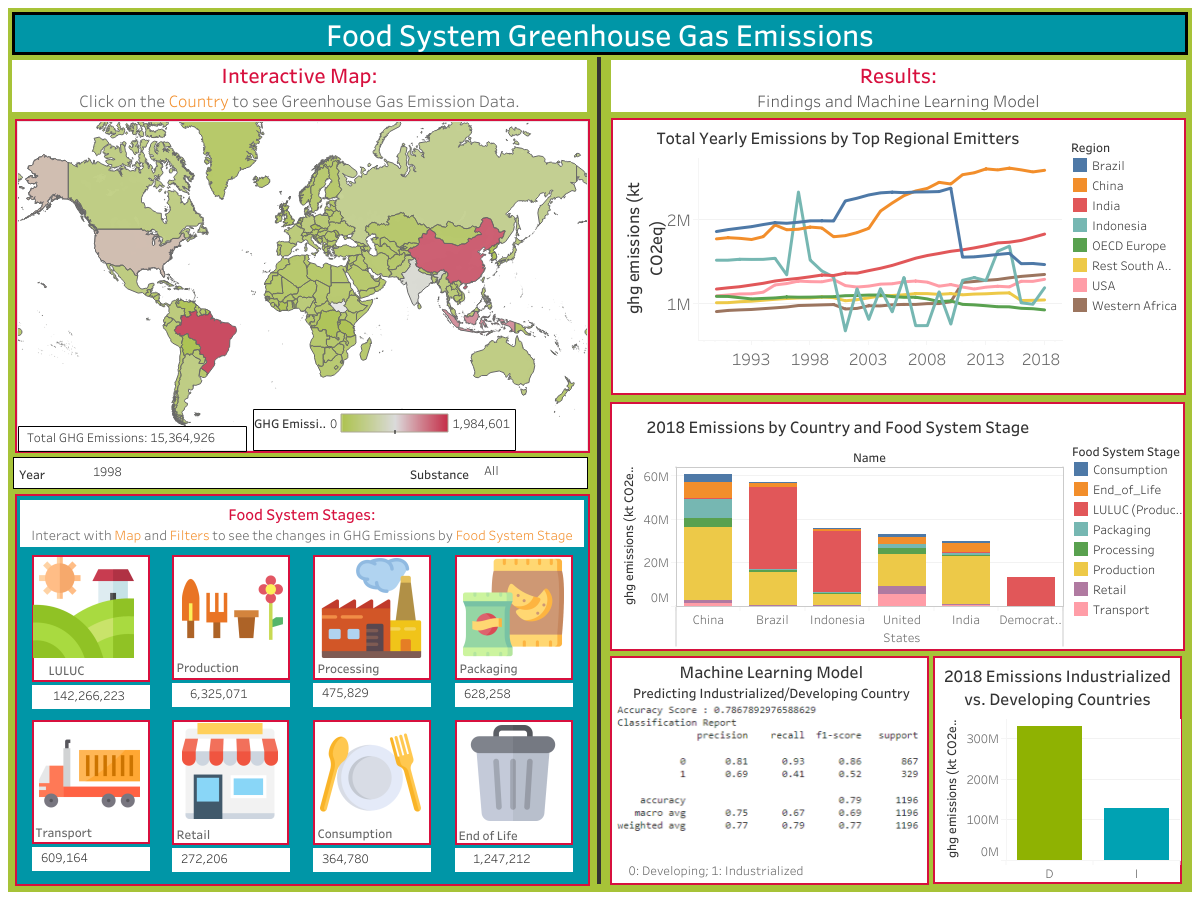

The dashboard page shown, as its layout file describes it:
{"tool":"tableau","page":{"name":"Food System Greenhouse Gas Emissions","canvas":[1200,900],"ordinal":0},"visuals":[{"type":"title","box":[8,8,1184,51]},{"type":"blank","box":[597,57,4,827]},{"type":"text","box":[12,60,575,52]},{"type":"text","box":[611,60,575,52]},{"type":"blank","box":[611,118,575,277]},{"type":"worksheet","title":"Yearly Emissions Heatmap","mark":"Automatic","box":[15,119,575,334]},{"type":"worksheet","title":"GhG Emissions Total grouped by year","mark":"Automatic","rows":["ghg_emissions (kt CO2eq)"],"cols":["year"],"box":[614,120,448,271]},{"type":"legend","title":"GhG Emissions Total grouped by year","param":"[federated.14hubyx009gc2x13z5pop1h8nzz4].[none:Region:nk]","box":[1070,136,112,225]},{"type":"blank","box":[610,402,575,249]},{"type":"legend","title":"Yearly Emissions Heatmap","param":"[federated.14hubyx009gc2x13z5pop1h8nzz4].[sum:ghg_emissions (kt CO2eq):qk]","box":[253,409,263,42]},{"type":"worksheet","title":"Top 5 Emitters by Food System Stage","mark":"Automatic","rows":["ghg_emissions (kt CO2eq)"],"cols":["Top Emitters by Country","Calculation_2232870681736089600","Name"],"box":[612,409,452,238]},{"type":"worksheet","title":"Summary","mark":"Automatic","box":[18,426,229,26]},{"type":"legend","title":"Top 5 Emitters by Food System Stage","param":"[federated.14hubyx009gc2x13z5pop1h8nzz4].[none:Food_System_Stage:nk]","box":[1071,440,112,200]},{"type":"blank","box":[13,457,575,32]},{"type":"filter","title":"Yearly Emissions Heatmap","param":"[federated.14hubyx009gc2x13z5pop1h8nzz4].[none:Substance:nk]","box":[410,461,172,26]},{"type":"filter","title":"Yearly Emissions Heatmap","param":"[federated.14hubyx009gc2x13z5pop1h8nzz4].[yr:year:ok]","box":[19,462,331,23]},{"type":"blank","box":[15,494,575,392]},{"type":"text","box":[20,500,564,47]},{"type":"text","box":[615.6,506.2,546.8,72]},{"type":"text","box":[390,528,63,19]},{"type":"blank","box":[32,555,118,127]},{"type":"blank","box":[172,555,118,125]},{"type":"blank","box":[313,555,118,125]},{"type":"blank","box":[455,555,118,125]},{"type":"image","param":"Image/farm.png","box":[33,557,102,101]},{"type":"image","param":"Image/tools.png","box":[182,557,102,101]},{"type":"image","param":"Image/factory.png","box":[321,557,102,101]},{"type":"image","param":"Image/snacks.png","box":[462,557,103,101]},{"type":"text","box":[174,650,105,33]},{"type":"text","box":[315,651,104,34]},{"type":"text","box":[457,651,104,34]},{"type":"text","box":[46,653,104,33]},{"type":"image","param":"Image/2018.png","box":[610,656,319,229]},{"type":"worksheet","title":"Industrialized Vs Developing","mark":"Bar","rows":["ghg_emissions (kt CO2eq)"],"cols":["Country_class"],"box":[933,656,249,228]},{"type":"text","box":[619,659,305,43]},{"type":"worksheet","title":"Production","mark":"Automatic","box":[172,683,118,24]},{"type":"worksheet","title":"Processing","mark":"Automatic","box":[313,683,118,24]},{"type":"worksheet","title":"Packaging","mark":"Automatic","box":[455,683,118,24]},{"type":"worksheet","title":"LULUC","mark":"Automatic","box":[32,685,118,24]},{"type":"blank","box":[32,720,118,124]},{"type":"blank","box":[172,720,117,125]},{"type":"blank","box":[313,720,118,125]},{"type":"blank","box":[455,720,118,125]},{"type":"image","param":"Image/894483.png","box":[320,722,102,101]},{"type":"image","param":"Image/tank-truck.png","box":[39,723,102,101]},{"type":"image","param":"Image/store.png","box":[182,723,96,97]},{"type":"image","param":"Image/bin.png","box":[465,724,96,98]},{"type":"text","box":[33,815,104,34]},{"type":"text","box":[315,816,104,34]},{"type":"text","box":[174,817,104,34]},{"type":"text","box":[456,818,104,33]},{"type":"worksheet","title":"Transport","mark":"Automatic","box":[32,847,118,24]},{"type":"worksheet","title":"Retail","mark":"Automatic","box":[172,848,118,24]},{"type":"worksheet","title":"Consumption","mark":"Automatic","box":[313,848,118,24]},{"type":"worksheet","title":"End of Life","mark":"Automatic","box":[455,848,118,24]},{"type":"text","box":[626,858,293,24]}]}

Visuals, with their boxes in screenshot pixels (x1, y1, x2, y2), scaled from the page's 1200x900 canvas onto the 1199x899 screenshot:
title: (8, 8, 1191, 59)
blank: (597, 57, 600, 883)
text: (12, 60, 587, 112)
text: (610, 60, 1185, 112)
blank: (610, 118, 1185, 395)
"Yearly Emissions Heatmap" worksheet: (15, 119, 590, 452)
"GhG Emissions Total grouped by year" worksheet: (613, 120, 1061, 391)
"GhG Emissions Total grouped by year" legend: (1069, 136, 1181, 361)
blank: (609, 402, 1184, 650)
"Yearly Emissions Heatmap" legend: (253, 409, 516, 450)
"Top 5 Emitters by Food System Stage" worksheet: (611, 409, 1063, 646)
"Summary" worksheet: (18, 426, 247, 451)
"Top 5 Emitters by Food System Stage" legend: (1070, 440, 1182, 639)
blank: (13, 456, 588, 488)
"Yearly Emissions Heatmap" filter: (410, 460, 582, 486)
"Yearly Emissions Heatmap" filter: (19, 461, 350, 484)
blank: (15, 493, 590, 885)
text: (20, 499, 584, 546)
text: (615, 506, 1161, 578)
text: (390, 527, 453, 546)
blank: (32, 554, 150, 681)
blank: (172, 554, 290, 679)
blank: (313, 554, 431, 679)
blank: (455, 554, 573, 679)
image: (33, 556, 135, 657)
image: (182, 556, 284, 657)
image: (321, 556, 423, 657)
image: (462, 556, 565, 657)
text: (174, 649, 279, 682)
text: (315, 650, 419, 684)
text: (457, 650, 561, 684)
text: (46, 652, 150, 685)
image: (609, 655, 928, 884)
"Industrialized Vs Developing" worksheet (Bar marks): (932, 655, 1181, 883)
text: (618, 658, 923, 701)
"Production" worksheet: (172, 682, 290, 706)
"Processing" worksheet: (313, 682, 431, 706)
"Packaging" worksheet: (455, 682, 573, 706)
"LULUC" worksheet: (32, 684, 150, 708)
blank: (32, 719, 150, 843)
blank: (172, 719, 289, 844)
blank: (313, 719, 431, 844)
blank: (455, 719, 573, 844)
image: (320, 721, 422, 822)
image: (39, 722, 141, 823)
image: (182, 722, 278, 819)
image: (465, 723, 561, 821)
text: (33, 814, 137, 848)
text: (315, 815, 419, 849)
text: (174, 816, 278, 850)
text: (456, 817, 560, 850)
"Transport" worksheet: (32, 846, 150, 870)
"Retail" worksheet: (172, 847, 290, 871)
"Consumption" worksheet: (313, 847, 431, 871)
"End of Life" worksheet: (455, 847, 573, 871)
text: (625, 857, 918, 881)
